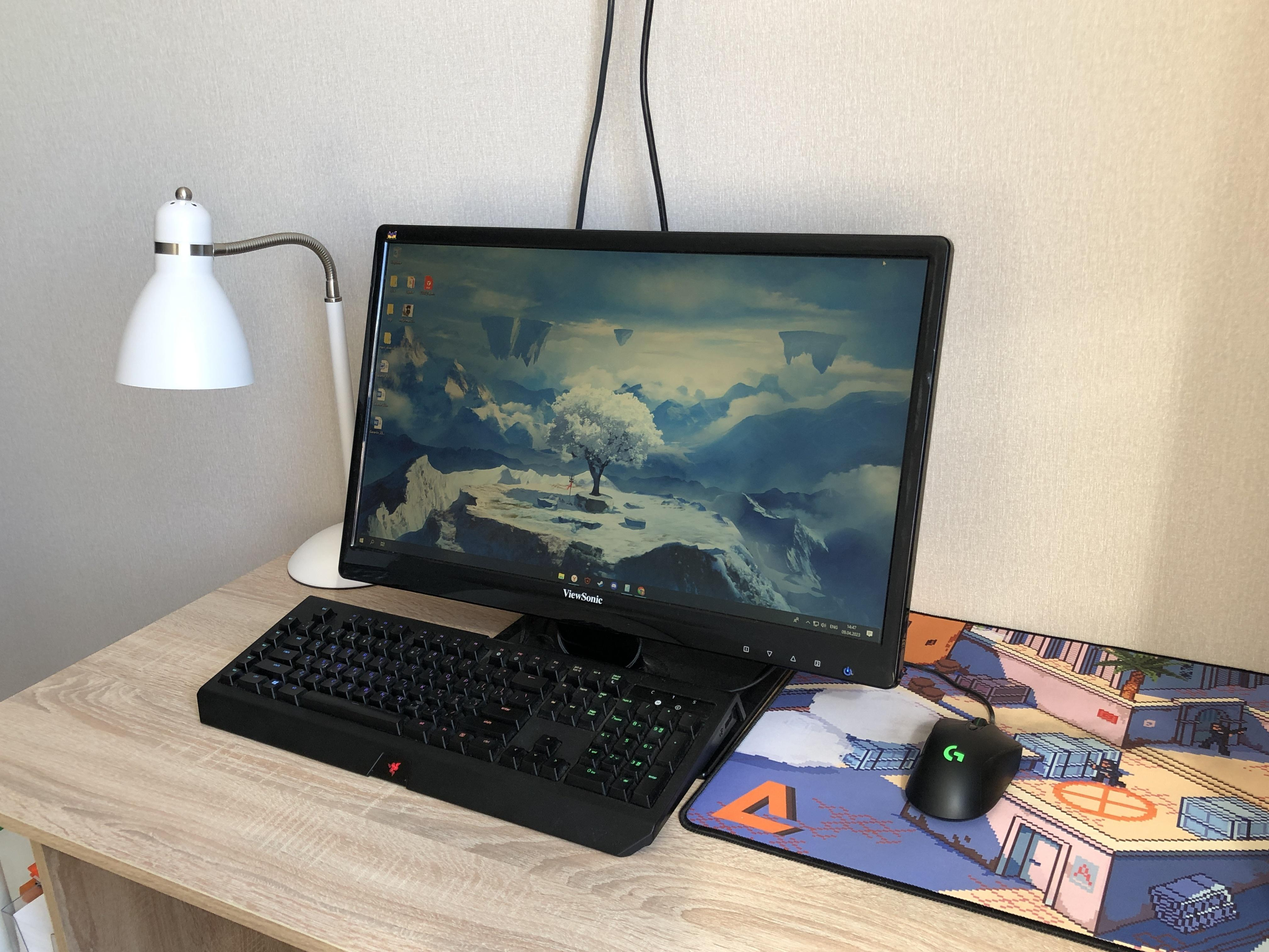monitor: (330, 224, 955, 691)
